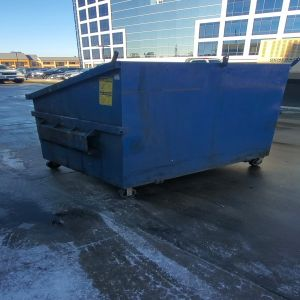Dumpster: (32, 59, 291, 201)
